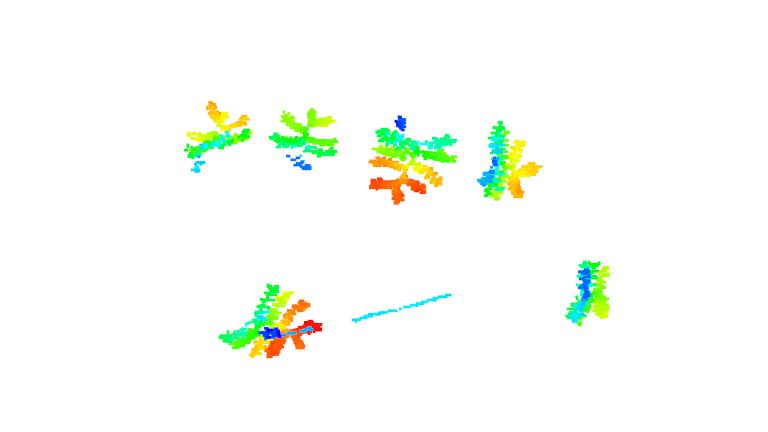chickpea: (369, 113, 458, 206), (221, 283, 320, 366), (473, 120, 542, 203), (180, 99, 253, 170), (273, 101, 343, 175), (567, 258, 613, 330)
